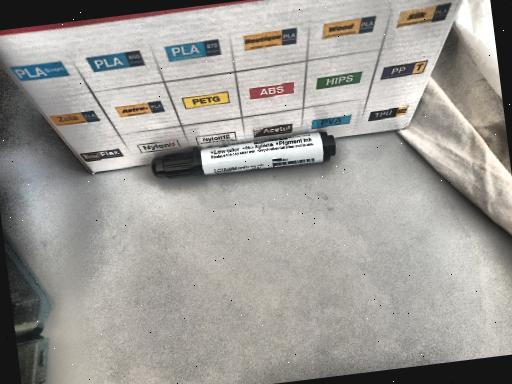marcador negro: (151, 131, 336, 178)
